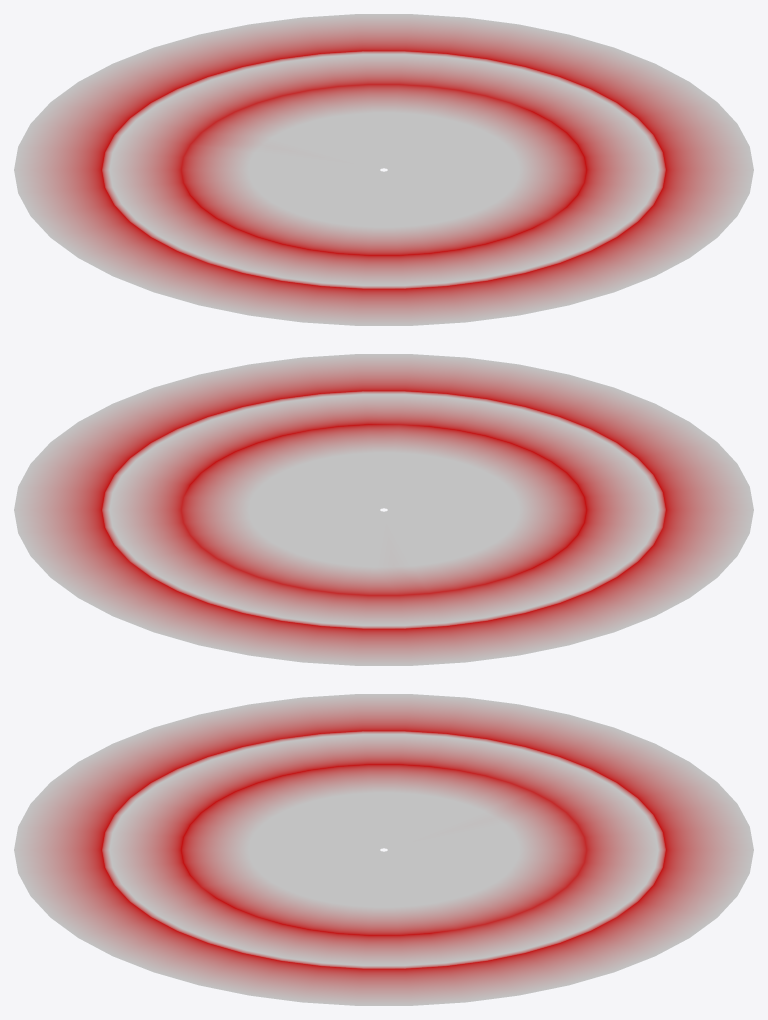
File: SM_OtobiAimUVDisk.fbx
The picture shows the model from 3 angles, top to bottom: view 1: azimuth 30°, elevation 25°; view 2: azimuth 150°, elevation 25°; view 3: azimuth 270°, elevation 25°; orthographic projection.
Parts seen in each view (by area): view 1: OtobiAimUVDisk; view 2: OtobiAimUVDisk; view 3: OtobiAimUVDisk.
Boxes of the visible parts, left/top/right/bottom form: OtobiAimUVDisk: left=14, top=14, right=753, bottom=325; OtobiAimUVDisk: left=14, top=354, right=753, bottom=665; OtobiAimUVDisk: left=14, top=694, right=753, bottom=1005.
Size of the model in its own units: 1.99 by 0 by 2.
